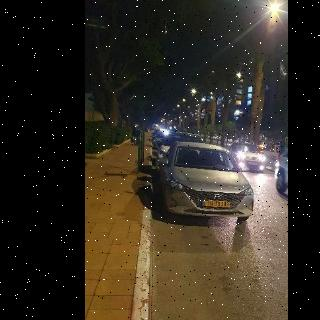LicensePlate: (206, 202, 230, 207)
